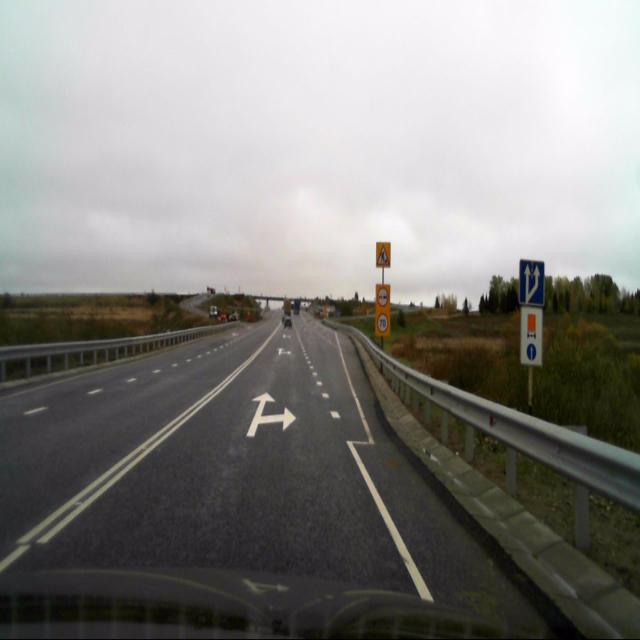object: (376, 284, 390, 334)
road sign: (520, 308, 542, 365), (518, 258, 544, 306), (375, 242, 390, 268)
